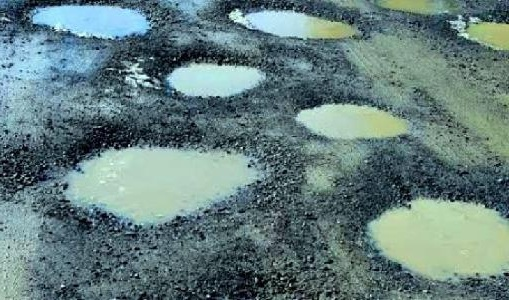pothole: (49, 124, 283, 238), (351, 183, 508, 285), (12, 0, 176, 42), (291, 91, 418, 142), (211, 0, 370, 40), (154, 48, 274, 101), (449, 14, 508, 54), (370, 0, 453, 16)
